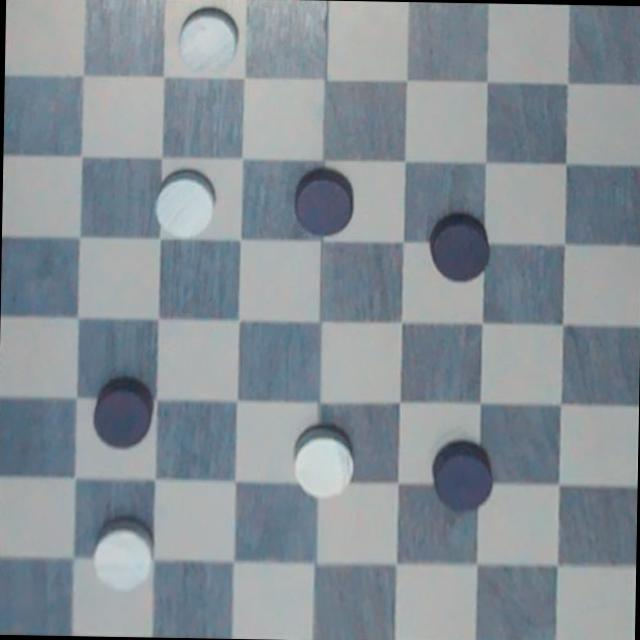BOARD: (0, 0, 640, 640)
black: (88, 369, 164, 454), (428, 203, 506, 280), (425, 438, 501, 512), (287, 168, 359, 238)
white: (76, 507, 169, 598), (141, 162, 228, 242), (283, 422, 362, 504), (172, 1, 240, 74)
